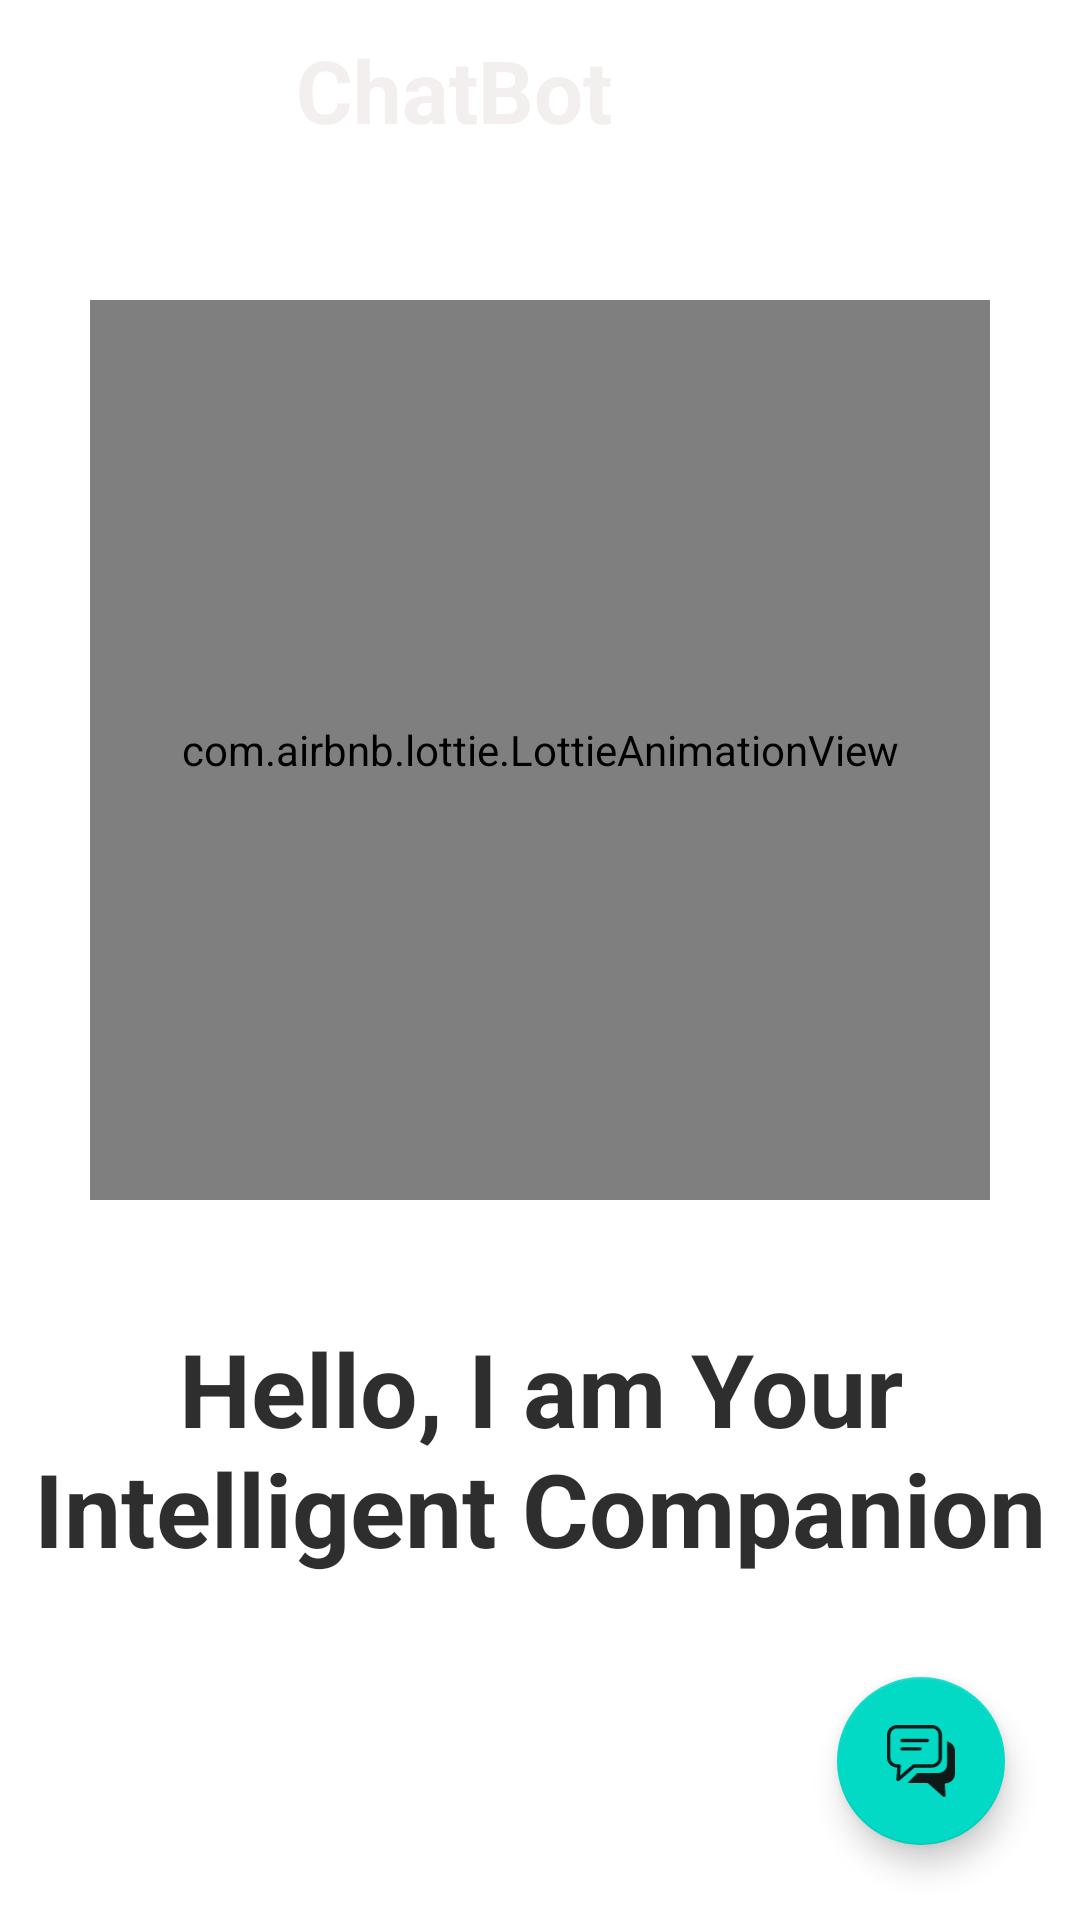

Locate icon controls on the screen. Image size 1080w x 1920h, boxes as box(x1, y1, x2, y2).
chat: box(837, 1677, 1005, 1845)
